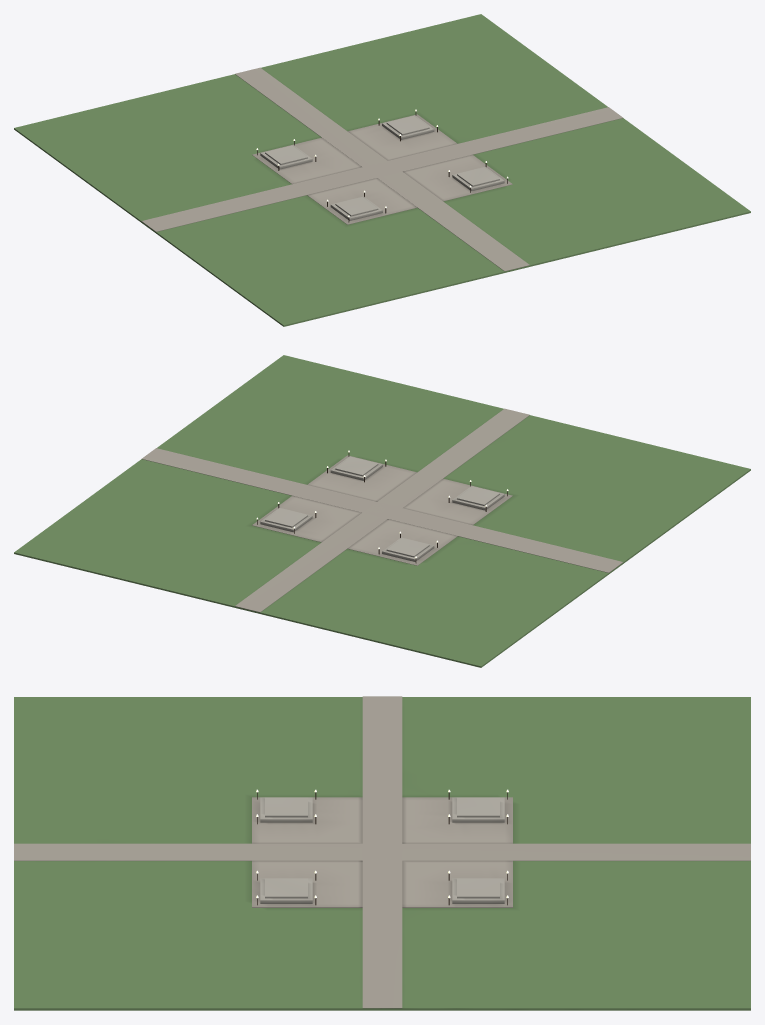
File: 01_champ_de_mars_wide.glb
3 views of the same model, one above another, from view 1: azimuth 30°, elevation 25°; view 2: azimuth 150°, elevation 25°; view 3: azimuth 270°, elevation 25° (orthographic). The views are drawn at different scales.
Visible parts, largest first — view 1: champ_de_mars_wide_grass, champ_de_mars_wide_gravel, champ_de_mars_wide_stone; view 2: champ_de_mars_wide_grass, champ_de_mars_wide_gravel, champ_de_mars_wide_stone; view 3: champ_de_mars_wide_grass, champ_de_mars_wide_gravel, champ_de_mars_wide_stone.
Part boxes in pixels (box(x1,y1,x2,y2)): champ_de_mars_wide_grass: box(14, 14, 750, 326); champ_de_mars_wide_gravel: box(141, 67, 622, 271); champ_de_mars_wide_stone: box(260, 115, 504, 220); champ_de_mars_wide_grass: box(14, 355, 750, 667); champ_de_mars_wide_gravel: box(142, 408, 623, 612); champ_de_mars_wide_stone: box(260, 456, 504, 561); champ_de_mars_wide_grass: box(14, 697, 750, 1010); champ_de_mars_wide_gravel: box(14, 696, 750, 1008); champ_de_mars_wide_stone: box(260, 797, 504, 903).
Size of the model in its own units: 480 by 8.6 by 480.
